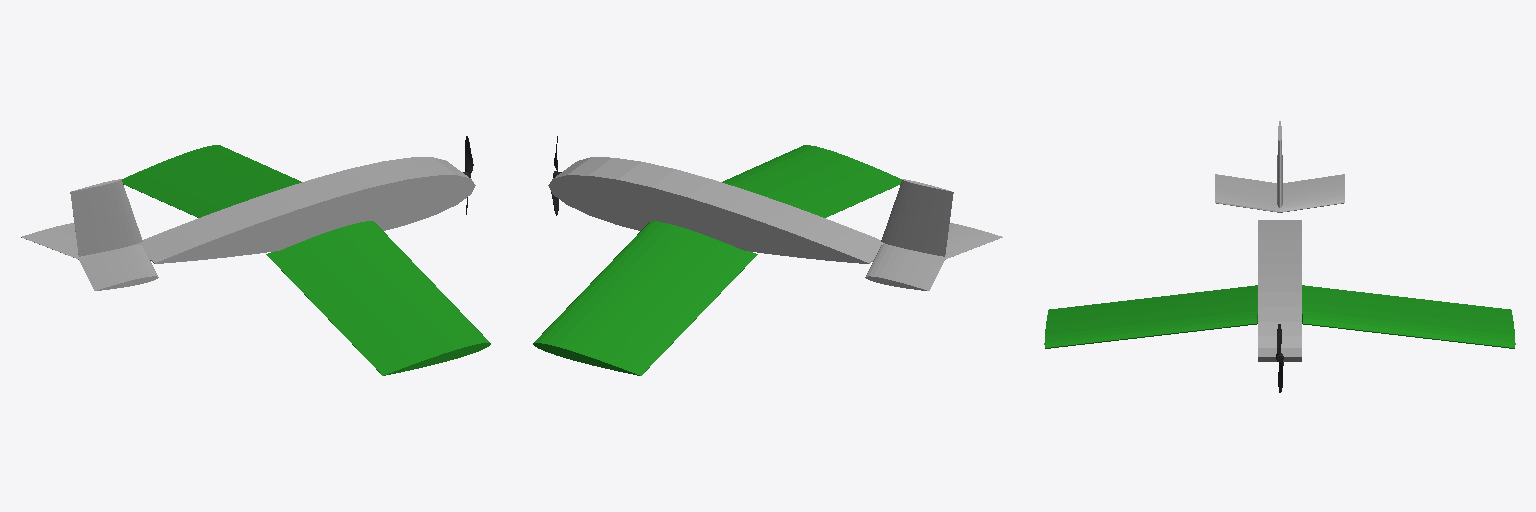
robot.urdf — drone_ea:
<robot name="drone_ea">
 <material name="grey">
  <color rgba="0.7 0.7 0.7 1" />
 </material>
 <material name="red">
  <color rgba="0.17254901960784313 0.6274509803921569 0.17254901960784313 1" />
 </material>
 <material name="black">
  <color rgba="0.2 0.2 0.2 1" />
 </material>
 <link name="root_link">
  <inertial>
   <origin rpy="0 0 0" xyz="0 0 0" />
   <mass value="0" />
   <inertia ixx="0" ixy="0" ixz="0" iyy="0" iyz="0" izz="0" />
  </inertial>
 </link>
 <joint name="fixed_joint_base_fuselage" type="fixed">
  <parent link="root_link" />
  <child link="fuselage" />
  <origin rpy="3.141592653589793 0 0" xyz="0 0 0" />
 </joint>
 <link name="fuselage">
  <inertial>
   <origin rpy="0 0 0" xyz="-0.344 0 0" />
   <mass value="0.55" />
   <inertia ixx="0.00029015955" ixy="0" ixz="0" iyy="0.0074080147" iyz="0" izz="0.0074511885" />
  </inertial>
  <visual>
   <origin rpy="0 0 0" xyz="0 0 0" />
   <geometry>
    <mesh filename="package://ros_muav/meshes/fuselage0014_tail0009.stl" scale="0.001 0.001 0.001" />
   </geometry>
   <material name="grey" />
  </visual>
 </link>
 <joint name="fixed_joint_aero_frame_fuselage" type="fixed">
  <parent link="fuselage" />
  <child link="aero_frame_fuselage" />
  <origin rpy="0 3.141592653589793 0" xyz="-0.344 0 0" />
 </joint>
 <link name="aero_frame_fuselage" />
 <joint name="fixed_joint_right_wing" type="fixed">
  <parent link="fuselage" />
  <child link="fuselage_right_0" />
  <origin rpy="-0.13962634015954636 -0.06981317007977318 3.1764992386296798" xyz="-0.3 0.05 0.03" />
 </joint>
 <link name="fuselage_right_0">
  <inertial>
   <mass value="0.082" />
   <origin rpy="0 0 0" xyz="0 0 0" />
   <inertia ixx="1.8041518518518523e-05" ixy="0" ixz="0" iyy="1.8041518518518523e-05" iyz="0" izz="1.8041518518518523e-05" />
  </inertial>
 </link>
 <joint name="joint_0_dihedral_right_wing" type="revolute">
  <parent link="fuselage_right_0" />
  <child link="fuselage_right_1" />
  <origin rpy="0 0 0" xyz="0 0 0" />
  <axis xyz="1 0 0" />
  <limit effort="1.7" lower="-0.5235987755982988" upper="0.5235987755982988" velocity="1.5707963267948966" />
  <dynamics damping="1" friction="0" />
 </joint>
 <link name="fuselage_right_1">
  <inertial>
   <mass value="0.018" />
   <origin rpy="0 0 0" xyz="0 0 0" />
   <inertia ixx="2.1333333333333334e-06" ixy="0" ixz="0" iyy="2.1333333333333334e-06" iyz="0" izz="2.1333333333333334e-06" />
  </inertial>
 </link>
 <joint name="joint_1_sweep_right_wing" type="revolute">
  <parent link="fuselage_right_1" />
  <child link="fuselage_right_2" />
  <origin rpy="0 0 0" xyz="0 0 0" />
  <axis xyz="0 0 1" />
  <limit effort="0.26" lower="-0.5235987755982988" upper="0.5235987755982988" velocity="5.393067388662478" />
  <dynamics damping="1" friction="0" />
 </joint>
 <link name="fuselage_right_2">
  <inertial>
   <mass value="0.018" />
   <origin rpy="0 0 0" xyz="0 0 0" />
   <inertia ixx="2.1333333333333334e-06" ixy="0" ixz="0" iyy="2.1333333333333334e-06" iyz="0" izz="2.1333333333333334e-06" />
  </inertial>
 </link>
 <joint name="joint_2_twist_right_wing" type="revolute">
  <parent link="fuselage_right_2" />
  <child link="right_wing" />
  <origin rpy="0 0 0" xyz="0 0 0" />
  <axis xyz="0 1 0" />
  <limit effort="0.26" lower="-0.5235987755982988" upper="0.5235987755982988" velocity="5.393067388662478" />
  <dynamics damping="1" friction="0" />
 </joint>
 <link name="right_wing">
  <inertial>
   <origin rpy="0 0 0" xyz="0.04304583 -0.25 0" />
   <mass value="0.057869468276775" />
   <inertia ixx="0.001207272822131543" ixy="0" ixz="0" iyy="0.00020027557901879884" iyz="0" izz="0.0014042305968140626" />
  </inertial>
  <visual>
   <origin rpy="0 0 0" xyz="0 0 0" />
   <geometry>
    <mesh filename="package://ros_muav/meshes/wing0009.stl" scale="0.25 0.5 0.25" />
   </geometry>
   <material name="red" />
  </visual>
 </link>
 <joint name="fixed_joint_aero_frame_right_wing" type="fixed">
  <parent link="right_wing" />
  <child link="aero_frame_right_wing" />
  <origin rpy="3.141592653589793 0 0" xyz="0.04304583 -0.25 0" />
 </joint>
 <link name="aero_frame_right_wing" />
 <joint name="fixed_joint_left_wing" type="fixed">
  <parent link="fuselage" />
  <child link="fuselage_left_0" />
  <origin rpy="0.13962634015954636 3.2114058236695664 -0.03490658503988659" xyz="-0.3 -0.05 0.03" />
 </joint>
 <link name="fuselage_left_0">
  <inertial>
   <mass value="0.082" />
   <origin rpy="0 0 0" xyz="0 0 0" />
   <inertia ixx="1.8041518518518523e-05" ixy="0" ixz="0" iyy="1.8041518518518523e-05" iyz="0" izz="1.8041518518518523e-05" />
  </inertial>
 </link>
 <joint name="joint_0_dihedral_left_wing" type="revolute">
  <parent link="fuselage_left_0" />
  <child link="fuselage_left_1" />
  <origin rpy="0 0 0" xyz="0 0 0" />
  <axis xyz="-1 0 0" />
  <limit effort="1.7" lower="-0.5235987755982988" upper="0.5235987755982988" velocity="1.5707963267948966" />
  <dynamics damping="1" friction="0" />
 </joint>
 <link name="fuselage_left_1">
  <inertial>
   <mass value="0.018" />
   <origin rpy="0 0 0" xyz="0 0 0" />
   <inertia ixx="2.1333333333333334e-06" ixy="0" ixz="0" iyy="2.1333333333333334e-06" iyz="0" izz="2.1333333333333334e-06" />
  </inertial>
 </link>
 <joint name="joint_1_sweep_left_wing" type="revolute">
  <parent link="fuselage_left_1" />
  <child link="fuselage_left_2" />
  <origin rpy="0 0 0" xyz="0 0 0" />
  <axis xyz="0 0 1" />
  <limit effort="0.26" lower="-0.5235987755982988" upper="0.5235987755982988" velocity="5.393067388662478" />
  <dynamics damping="1" friction="0" />
 </joint>
 <link name="fuselage_left_2">
  <inertial>
   <mass value="0.018" />
   <origin rpy="0 0 0" xyz="0 0 0" />
   <inertia ixx="2.1333333333333334e-06" ixy="0" ixz="0" iyy="2.1333333333333334e-06" iyz="0" izz="2.1333333333333334e-06" />
  </inertial>
 </link>
 <joint name="joint_2_twist_left_wing" type="revolute">
  <parent link="fuselage_left_2" />
  <child link="left_wing" />
  <origin rpy="0 0 0" xyz="0 0 0" />
  <axis xyz="0 -1 0" />
  <limit effort="0.26" lower="-0.5235987755982988" upper="0.5235987755982988" velocity="5.393067388662478" />
  <dynamics damping="1" friction="0" />
 </joint>
 <link name="left_wing">
  <inertial>
   <origin rpy="0 0 0" xyz="0.04304583 -0.25 0" />
   <mass value="0.057869468276775" />
   <inertia ixx="0.001207272822131543" ixy="0" ixz="0" iyy="0.00020027557901879884" iyz="0" izz="0.0014042305968140626" />
  </inertial>
  <visual>
   <origin rpy="0 0 0" xyz="0 0 0" />
   <geometry>
    <mesh filename="package://ros_muav/meshes/wing0009.stl" scale="0.25 0.5 0.25" />
   </geometry>
   <material name="red" />
  </visual>
 </link>
 <joint name="fixed_joint_aero_frame_left_wing" type="fixed">
  <parent link="left_wing" />
  <child link="aero_frame_left_wing" />
  <origin rpy="0 0 0" xyz="0.04304583 -0.25 0" />
 </joint>
 <link name="aero_frame_left_wing" />
 <joint name="fixed_joint_collision_0" type="fixed">
  <parent link="fuselage" />
  <child link="collision_frame_0" />
  <origin rpy="0 0 0" xyz="0 0 0" />
 </joint>
 <link name="collision_frame_0" />
 <joint name="fixed_joint_collision_1" type="fixed">
  <parent link="fuselage" />
  <child link="collision_frame_1" />
  <origin rpy="0 0 0" xyz="-0.75 0 0" />
 </joint>
 <link name="collision_frame_1" />
 <joint name="fixed_joint_collision_2" type="fixed">
  <parent link="right_wing" />
  <child link="collision_frame_2" />
  <origin rpy="0 0 0" xyz="0.1875 -0.5 0" />
 </joint>
 <link name="collision_frame_2" />
 <joint name="fixed_joint_collision_3" type="fixed">
  <parent link="right_wing" />
  <child link="collision_frame_3" />
  <origin rpy="0 0 0" xyz="-0.0625 -0.5 0" />
 </joint>
 <link name="collision_frame_3" />
 <joint name="fixed_joint_collision_4" type="fixed">
  <parent link="left_wing" />
  <child link="collision_frame_4" />
  <origin rpy="0 0 0" xyz="0.1875 -0.5 0" />
 </joint>
 <link name="collision_frame_4" />
 <joint name="fixed_joint_collision_5" type="fixed">
  <parent link="left_wing" />
  <child link="collision_frame_5" />
  <origin rpy="0 0 0" xyz="-0.0625 -0.5 0" />
 </joint>
 <link name="collision_frame_5" />
 <joint name="fixed_joint_prop_frame_fuselage_0" type="fixed">
  <parent link="fuselage" />
  <child link="prop_frame_fuselage_0" />
  <origin rpy="3.141592653589793 -1.5707963267948966 0" xyz="0 0 0" />
 </joint>
 <link name="prop_frame_fuselage_0">
  <inertial>
   <mass value="0.03859" />
   <origin rpy="0 0 0" xyz="0 0 0" />
   <inertia ixx="3.7625e-05" ixy="0" ixz="0" iyy="3.7625e-05" iyz="0" izz="7.5e-05" />
  </inertial>
  <visual>
   <origin rpy="0 0 0" xyz="0 0 0" />
   <geometry>
    <mesh filename="package://ros_muav/meshes/propeller.stl" scale="0.001 0.001 0.001" />
   </geometry>
   <material name="black" />
  </visual>
 </link>
</robot>

--- Facts derived from the render (not from the file) ---
The picture shows the robot from 3 angles, left to right: view 1: azimuth 30°, elevation 25°; view 2: azimuth 150°, elevation 25°; view 3: azimuth 270°, elevation 25°; orthographic projection.
Robot: drone_ea — 20 links, 19 joints (6 revolute, 13 fixed); root link root_link; default pose: every joint at zero.
Links seen in each view (by area): view 1: fuselage, right_wing, left_wing; view 2: fuselage, left_wing, right_wing; view 3: fuselage, right_wing, left_wing.
Link boxes in pixels (box(x1,y1,x2,y2)): fuselage: box(21, 157, 475, 290); right_wing: box(266, 221, 490, 375); left_wing: box(122, 145, 301, 217); fuselage: box(548, 157, 1002, 290); left_wing: box(533, 221, 757, 375); right_wing: box(722, 145, 901, 217); fuselage: box(1215, 121, 1344, 361); right_wing: box(1044, 285, 1257, 348); left_wing: box(1302, 285, 1515, 348).
Bounding box of the posed robot: 0.9695 × 1.1 × 0.2941 m (x, y, z).
Meshes: 3 distinct files referenced, 4 mesh visuals loaded (3 binary STL).
